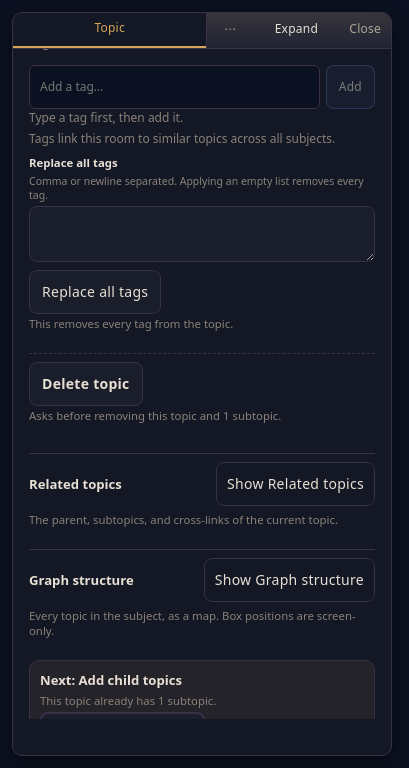
Test: graph/room-remove fires exactly once › leaves the workspace on a topic that still exists after a cascade delete
This screenshot has width=409, height=768.
(page scrolled)
Step 1. Click the button "Delete topic" → [86, 384], box [29,362,143,406]
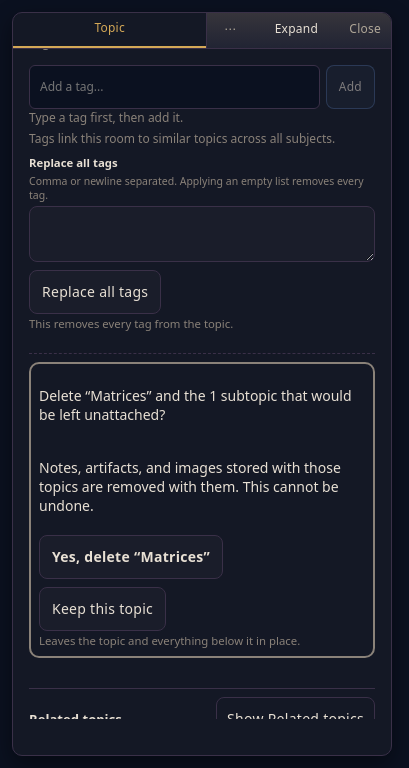
Step 2. Click the button "Yes, delete “Matrices”" → [131, 557], box [39,535,223,579]
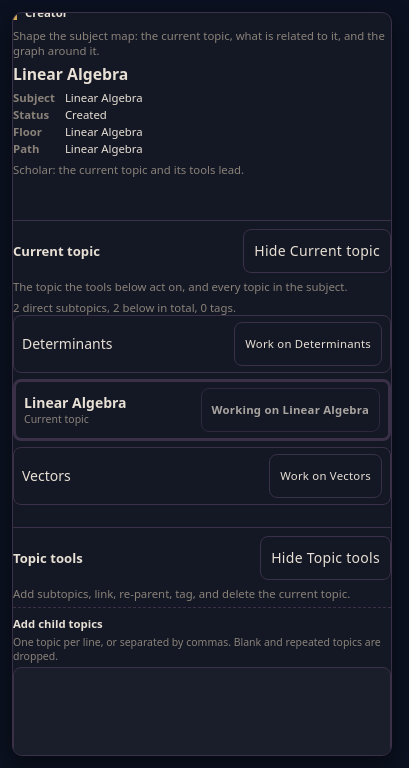
Result: the heading "Linear Algebra" is shown at [13,63,128,85]
Result: the heading "Topic tools" is shown at [13,549,83,567]
